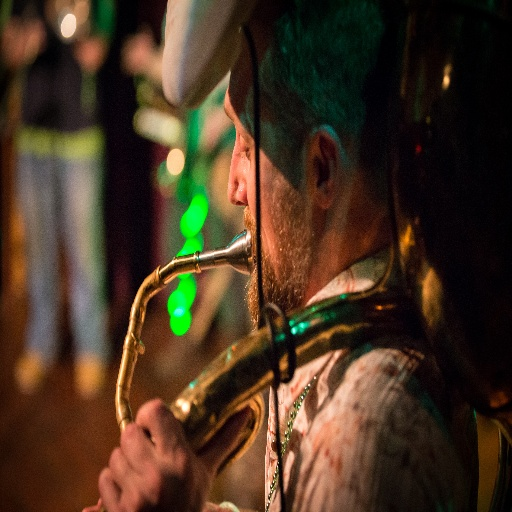hand: (100, 404, 210, 504), (72, 35, 107, 74), (121, 34, 154, 74)
